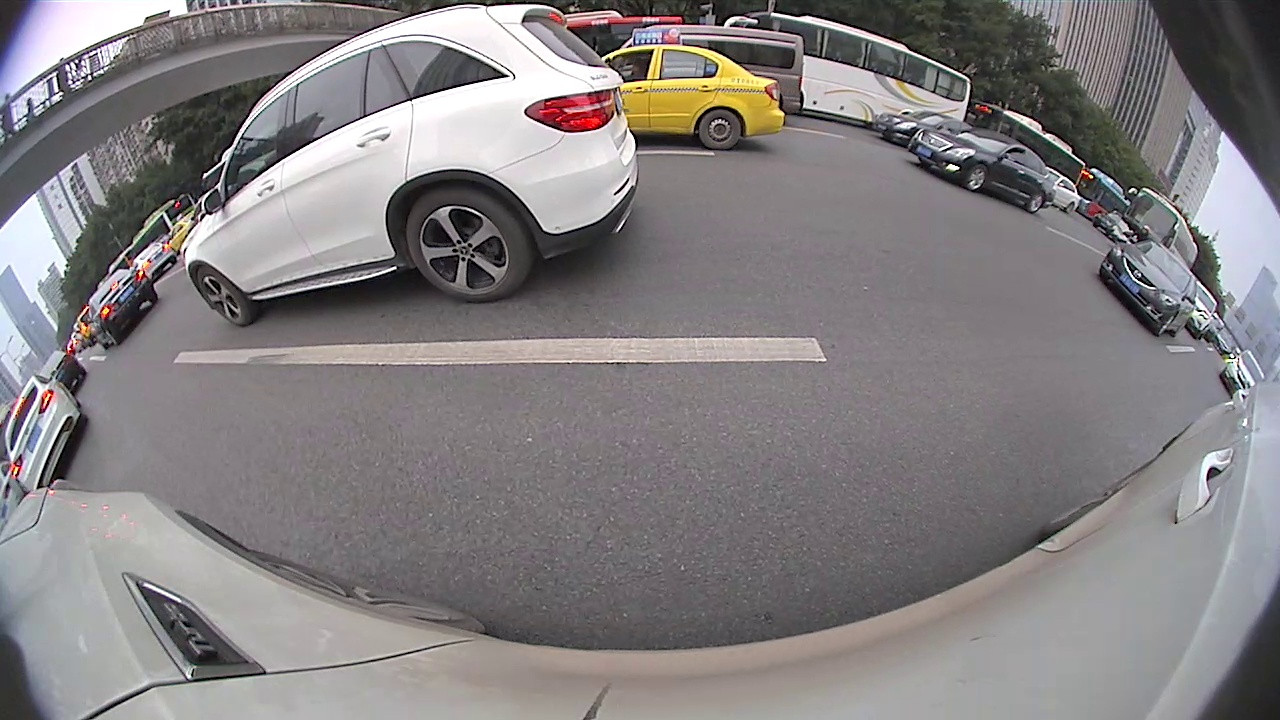bus: (724, 12, 971, 132), (960, 97, 1086, 188), (1113, 185, 1200, 272)
car: (184, 4, 640, 329), (597, 42, 786, 152), (629, 25, 807, 117), (907, 127, 1059, 213), (1093, 234, 1201, 342), (4, 373, 91, 490), (86, 267, 161, 350), (874, 109, 972, 149)
front: (194, 265, 252, 327), (964, 163, 990, 192)
rear: (403, 188, 529, 304), (698, 110, 741, 151), (1028, 193, 1044, 214), (1065, 202, 1075, 215)
